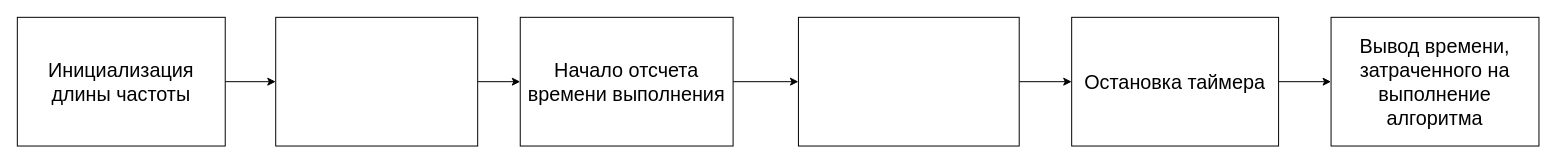
This 1556x163 diagram has some shape labels left out. The centre of each missing label's shape, as x and y in pixels:
Выполнение преобразования Фурье: the point at 908,81
Генерация тестовых данных: the point at 376,81
